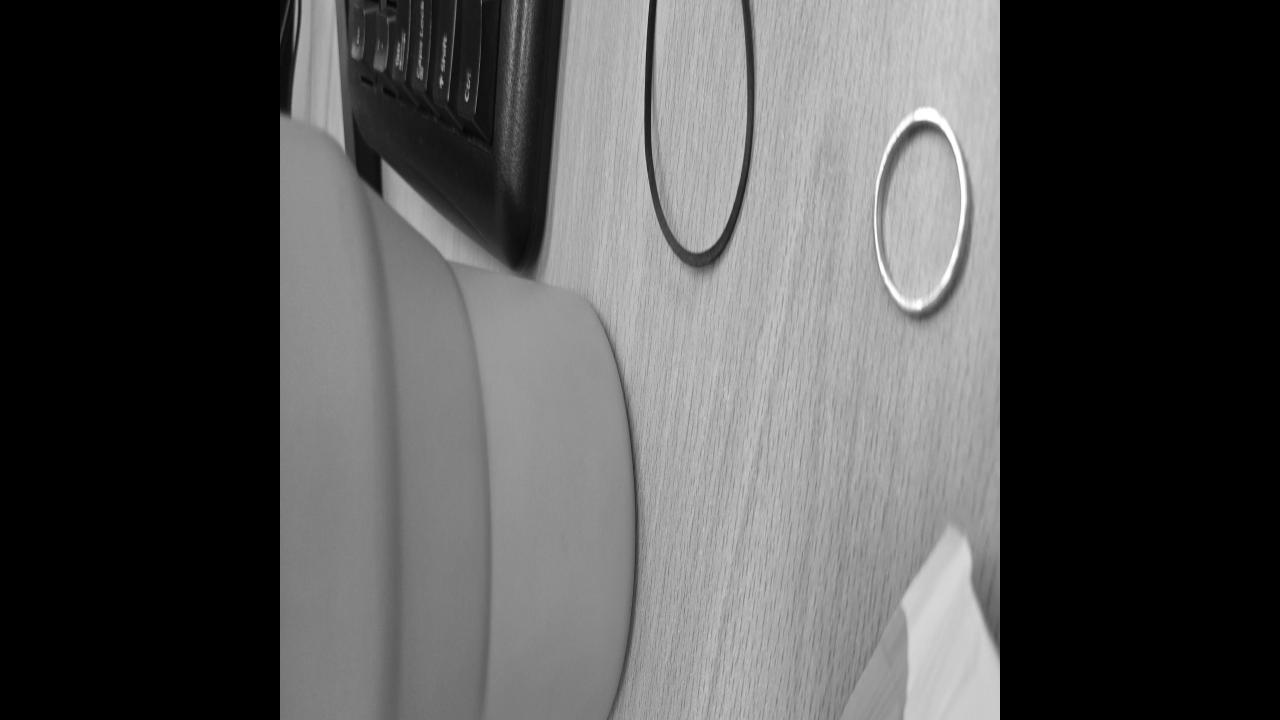ring: (869, 102, 972, 326)
